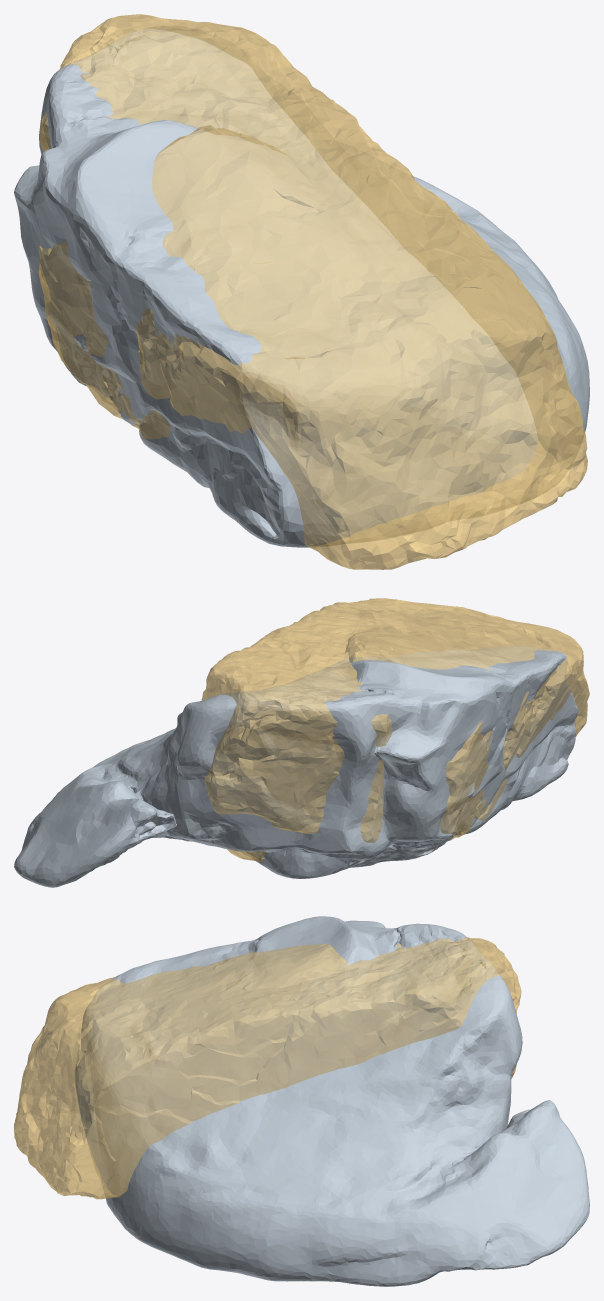
3 renders of one model, top to bottom at view 1: azimuth 30°, elevation 25°; view 2: azimuth 150°, elevation 25°; view 3: azimuth 270°, elevation 25°, orthographic. The views are drawn at different scales.
Parts seen in each view (by area): view 1: imagination, truth; view 2: imagination, truth; view 3: imagination, truth.
Boxes of the visible parts, bbox=[...] form: imagination: bbox=[14, 26, 589, 547]; truth: bbox=[38, 14, 587, 569]; imagination: bbox=[14, 646, 578, 887]; truth: bbox=[201, 598, 589, 862]; imagination: bbox=[75, 916, 589, 1286]; truth: bbox=[14, 937, 521, 1199].
Bounding box in the file's own units: 1.05 × 0.643 × 1.43.
